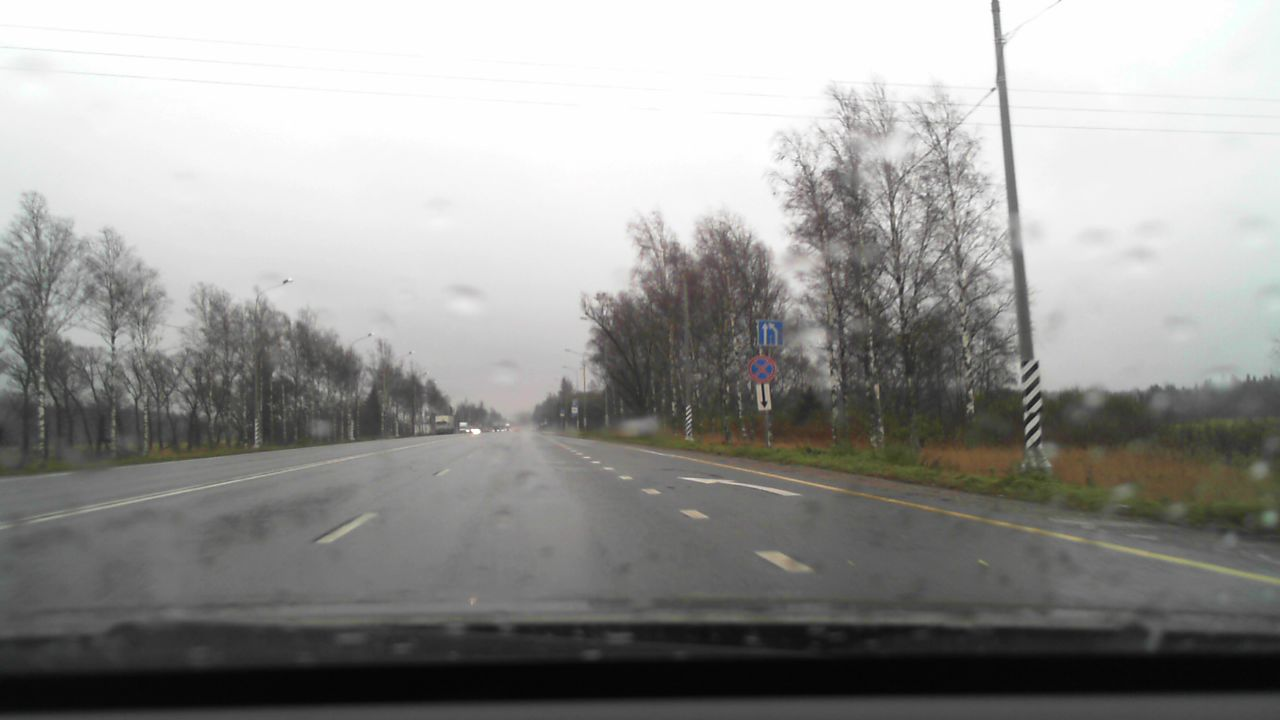No Parking: (748, 355, 776, 383)
